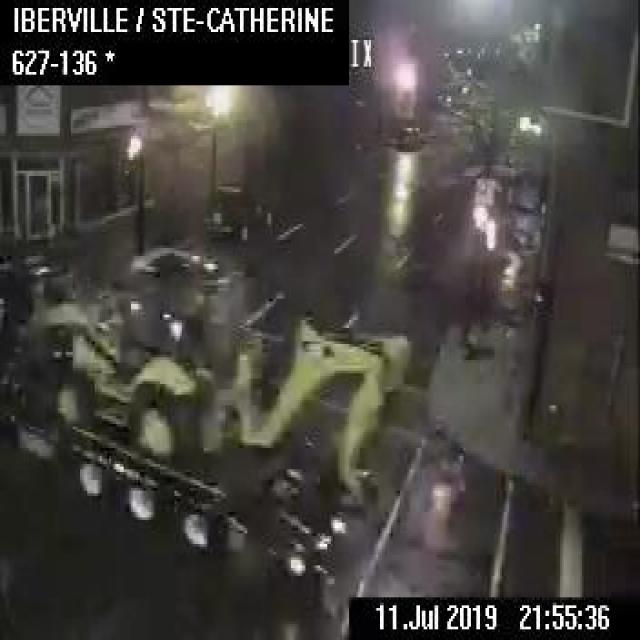vehicle: (0, 238, 411, 638), (201, 180, 273, 238), (394, 123, 420, 149)
